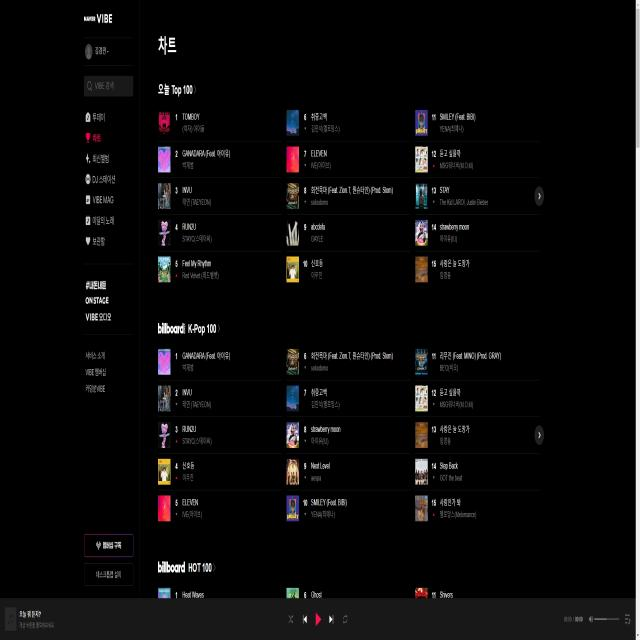menu-panel: (79, 4, 138, 592)
search: (81, 72, 135, 99)
